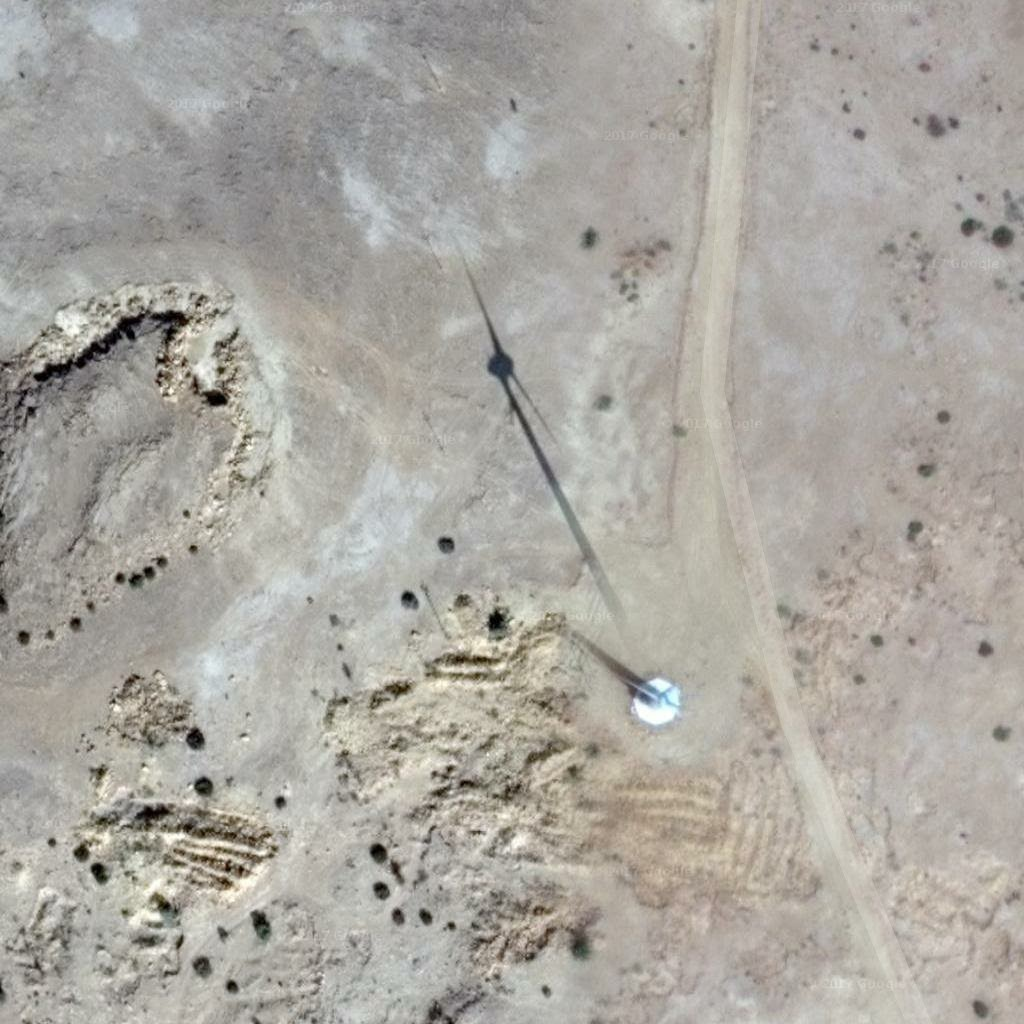Windmill: (431, 242, 658, 686)
